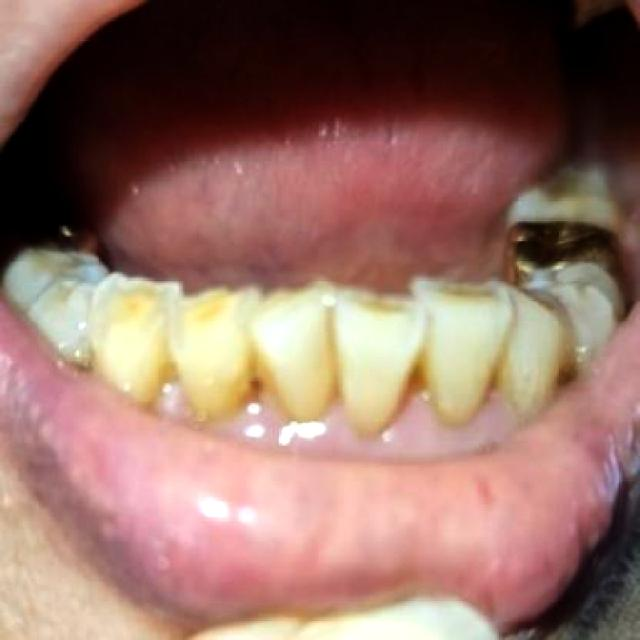Plaque: (153, 373, 521, 456)
